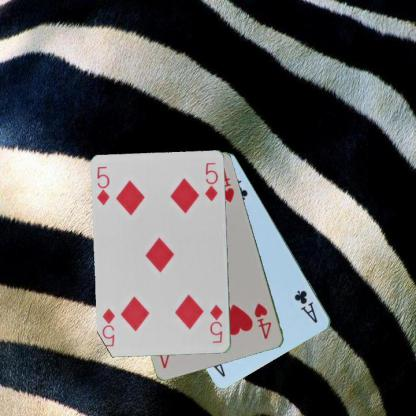4h: (252, 300, 273, 341)
5d: (94, 163, 111, 207), (208, 302, 224, 345)
Ac: (292, 288, 319, 324)
